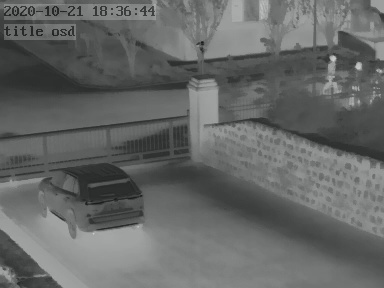person: (324, 53, 338, 91)
vehicle: (36, 163, 145, 238)
